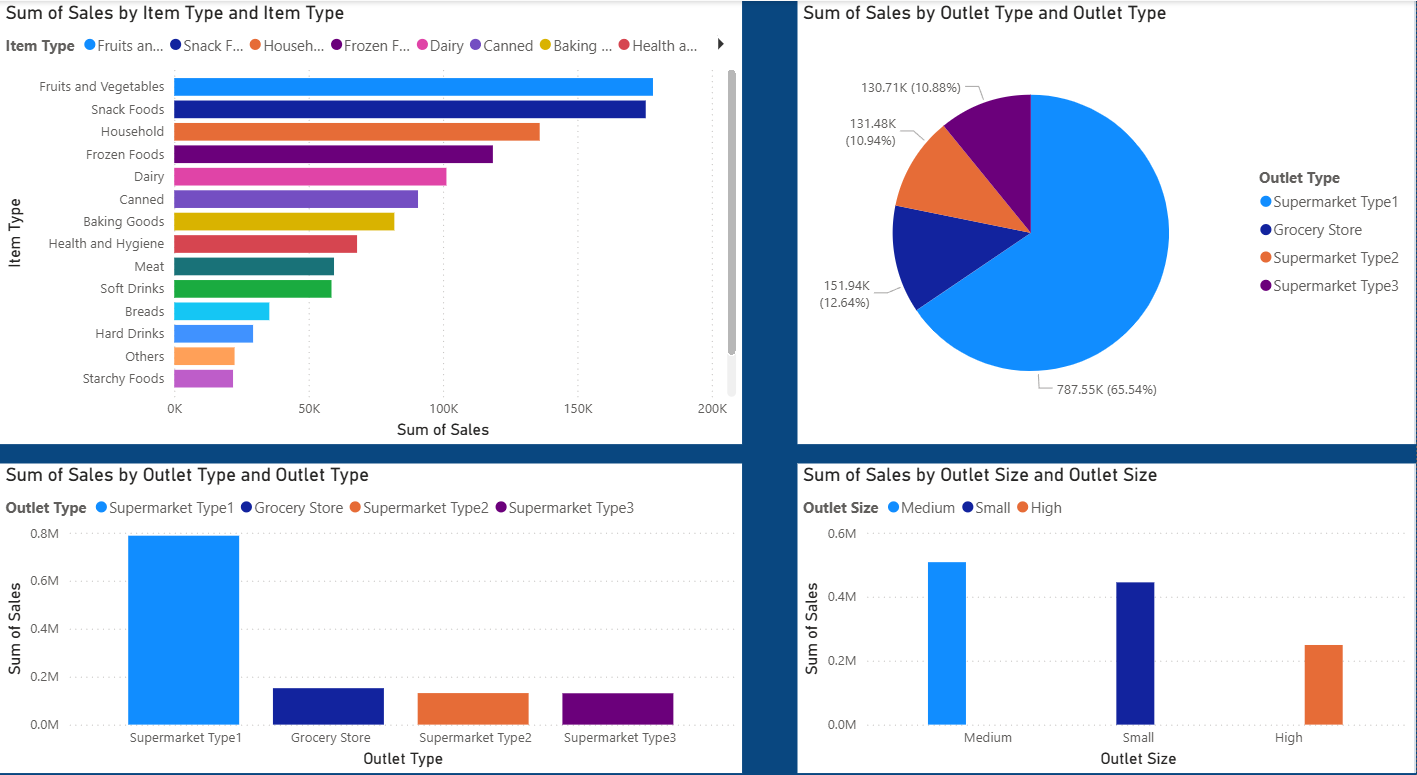

What the dashboard file says about the page in this screenshot:
{"tool":"powerbi","page":{"name":"Page 1","canvas":[1280,720],"ordinal":0},"visuals":[{"type":"barChart","fields":{"Y":["Sum(BlinkIT Grocery Data.Sales)"],"Category":["BlinkIT Grocery Data.Item Type"],"Series":["BlinkIT Grocery Data.Item Type"]},"box":[9.6,0,558.5,279.9],"z":0},{"type":"columnChart","fields":{"Y":["Sum(BlinkIT Grocery Data.Sales)"],"Category":["BlinkIT Grocery Data.Outlet Type"],"Series":["BlinkIT Grocery Data.Outlet Type"]},"box":[0,418.5,558.5,279.9],"z":1000},{"type":"pieChart","fields":{"Category":["BlinkIT Grocery Data.Outlet Type"],"Y":["Sum(BlinkIT Grocery Data.Sales)"],"Series":["BlinkIT Grocery Data.Outlet Type"]},"box":[721.8,0,558.5,400.7],"z":2000},{"type":"clusteredColumnChart","fields":{"Category":["BlinkIT Grocery Data.Outlet Size"],"Y":["Sum(BlinkIT Grocery Data.Sales)"],"Series":["BlinkIT Grocery Data.Outlet Size"]},"box":[721.8,418.5,558.5,279.9],"z":3000}]}

Visuals, with their boxes in screenshot pixels (x1, y1, x2, y2), scaled from the page's 1280x720 canvas onto the 1417x775 screenshot:
barChart - Sum(BlinkIT Grocery Data.Sales) x BlinkIT Grocery Data.Item Type: bbox=[11, 0, 629, 301]
columnChart - Sum(BlinkIT Grocery Data.Sales) x BlinkIT Grocery Data.Outlet Type: bbox=[0, 450, 618, 752]
pieChart - BlinkIT Grocery Data.Outlet Type x Sum(BlinkIT Grocery Data.Sales): bbox=[799, 0, 1416, 431]
clusteredColumnChart - BlinkIT Grocery Data.Outlet Size x Sum(BlinkIT Grocery Data.Sales): bbox=[799, 450, 1416, 752]
